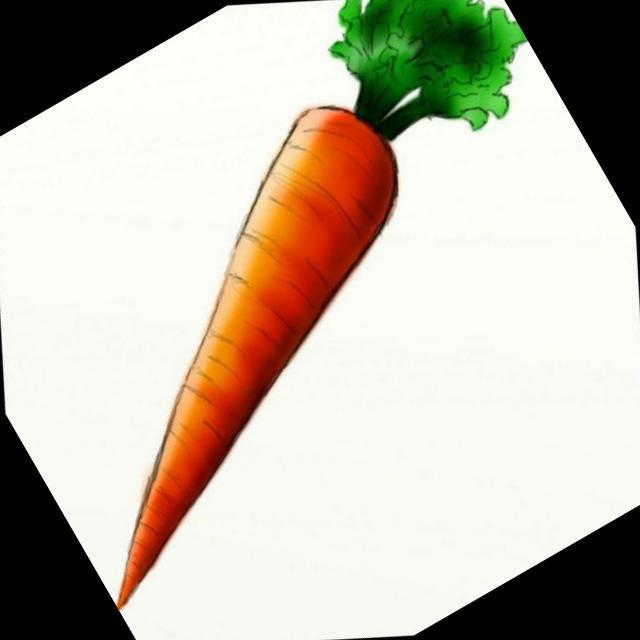Carrot: (118, 0, 525, 607)
